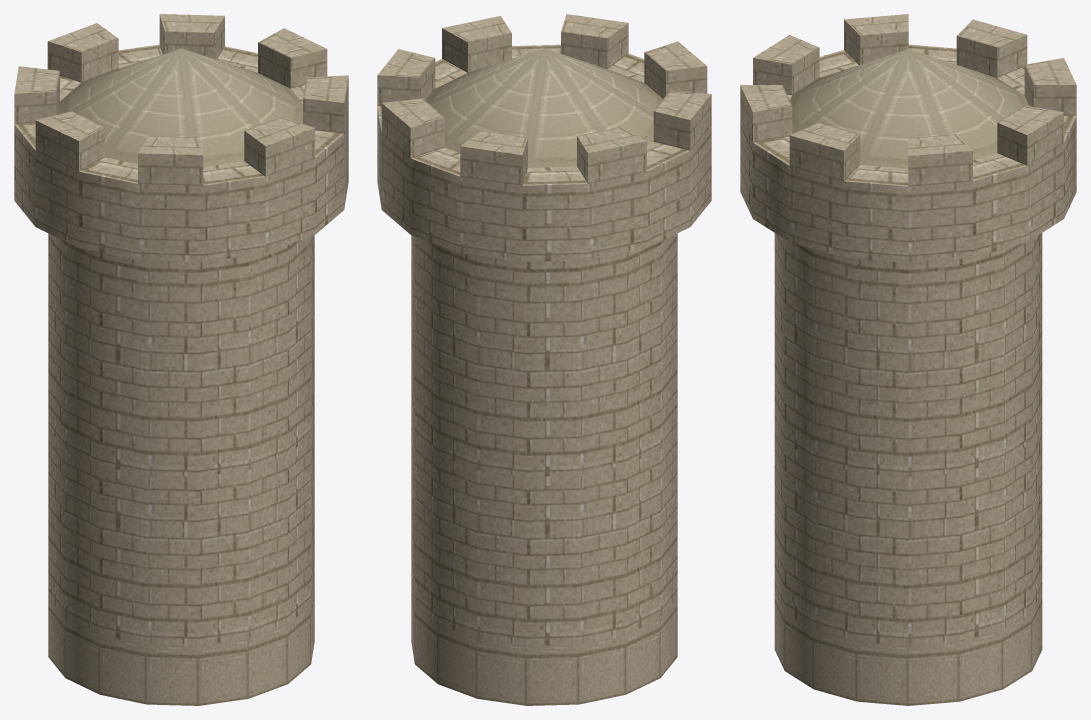
File: Tower.fbx
3 views of the same model, side by side, from view 1: azimuth 30°, elevation 25°; view 2: azimuth 150°, elevation 25°; view 3: azimuth 270°, elevation 25° (orthographic).
Visible parts, largest first — view 1: polymsh; view 2: polymsh; view 3: polymsh.
Boxes of the visible parts, bbox=[...] form: polymsh: bbox=[14, 14, 348, 705]; polymsh: bbox=[377, 14, 711, 705]; polymsh: bbox=[740, 14, 1076, 705].
Bounding box in the file's own units: 2 × 3.94 × 2.
